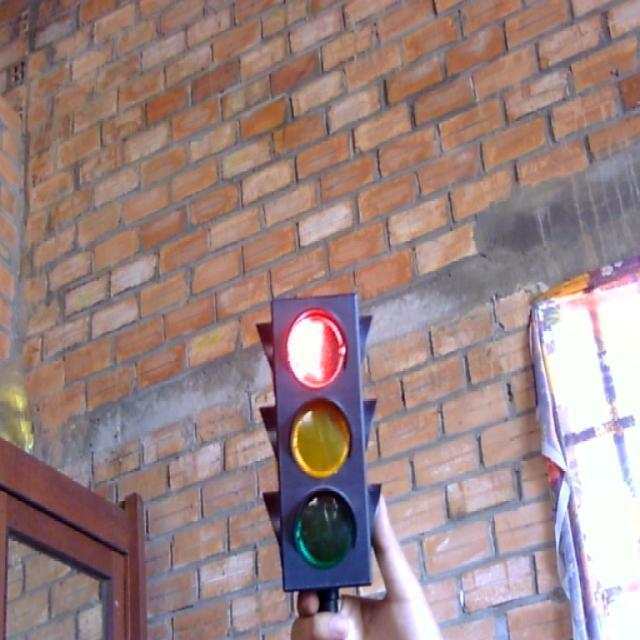red_light: (266, 292, 378, 586)
